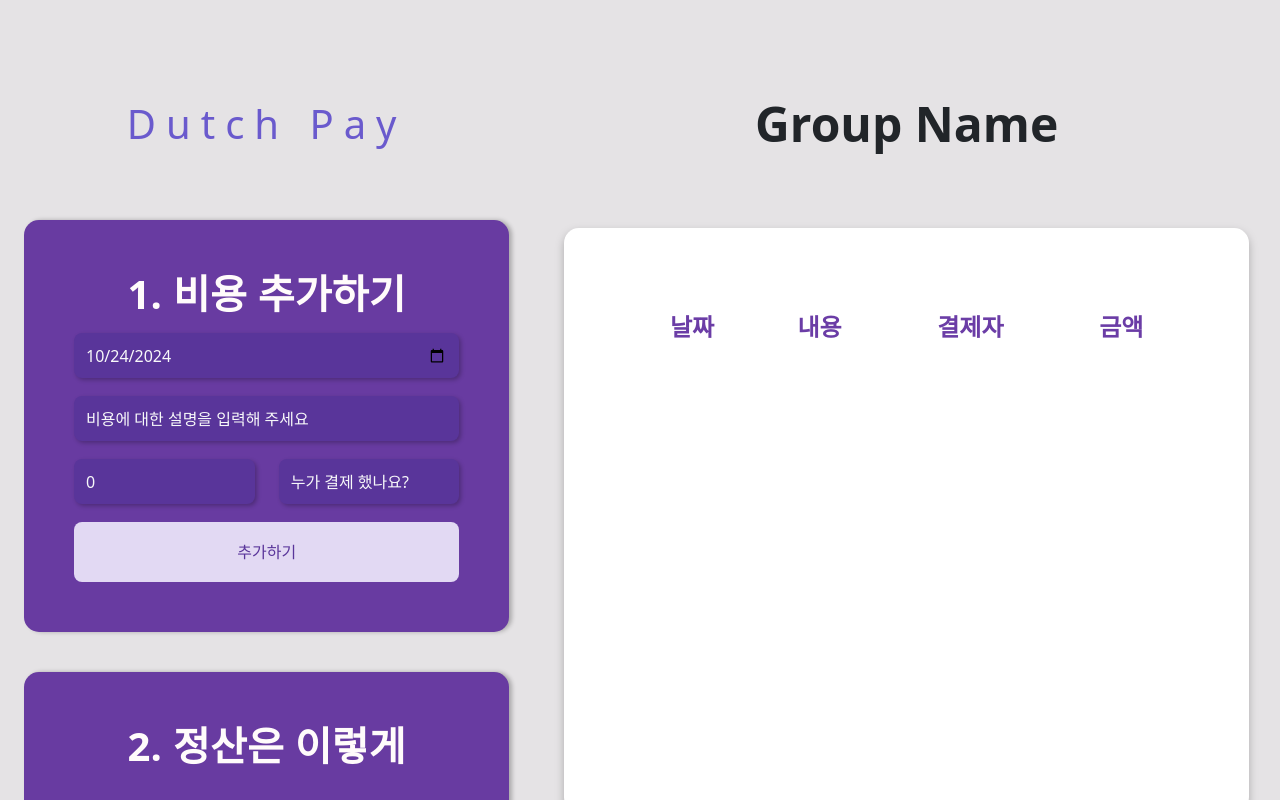
it: 비용 정산 메인 페이지 › 새로운 비용이 입력 › 정산 결과 또한 업데이트가 된다.
Type "2022-10-02" into the date field with placeholder "결제한 날짜를 선택해 주세요" at (267, 356), box left=74, top=333, right=459, bottom=378
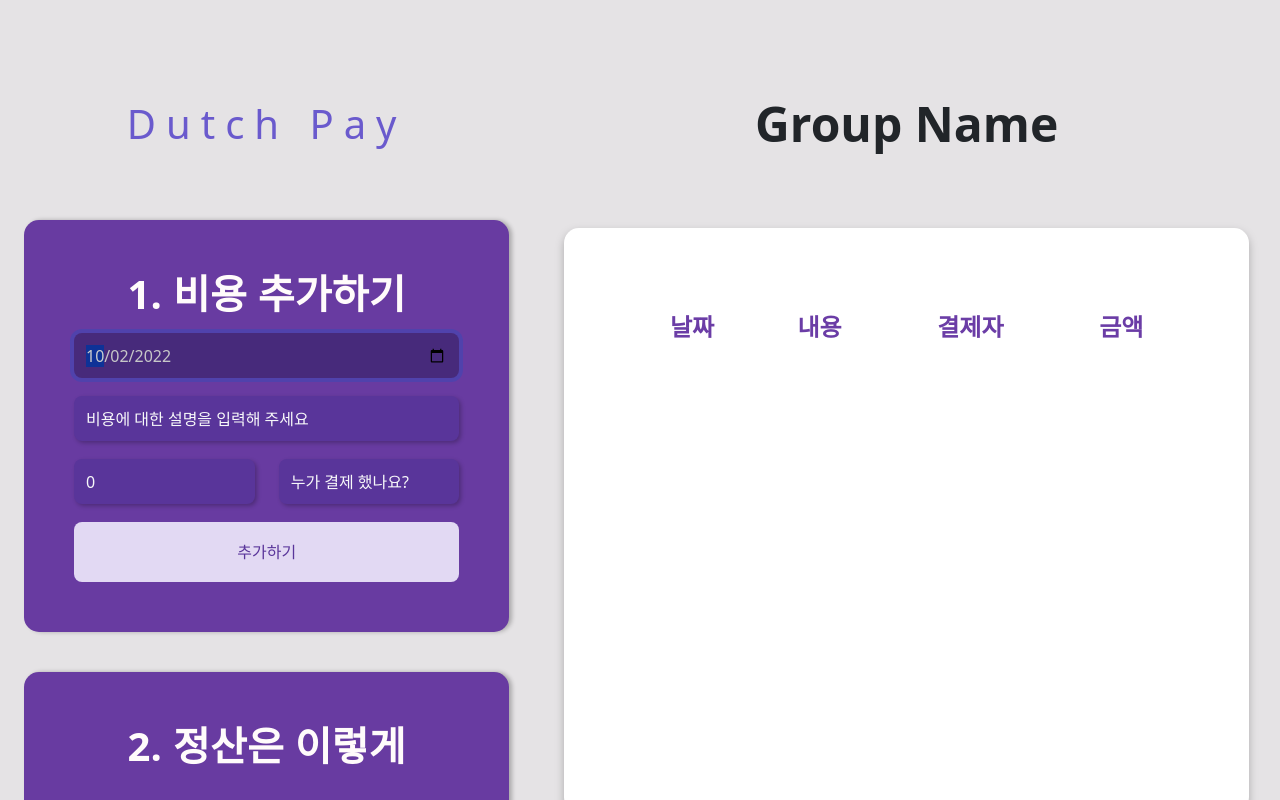
Type "장보기" into the field with placeholder "비용에 대한 설명을 입력해 주세요" at (267, 418), box left=74, top=396, right=459, bottom=441
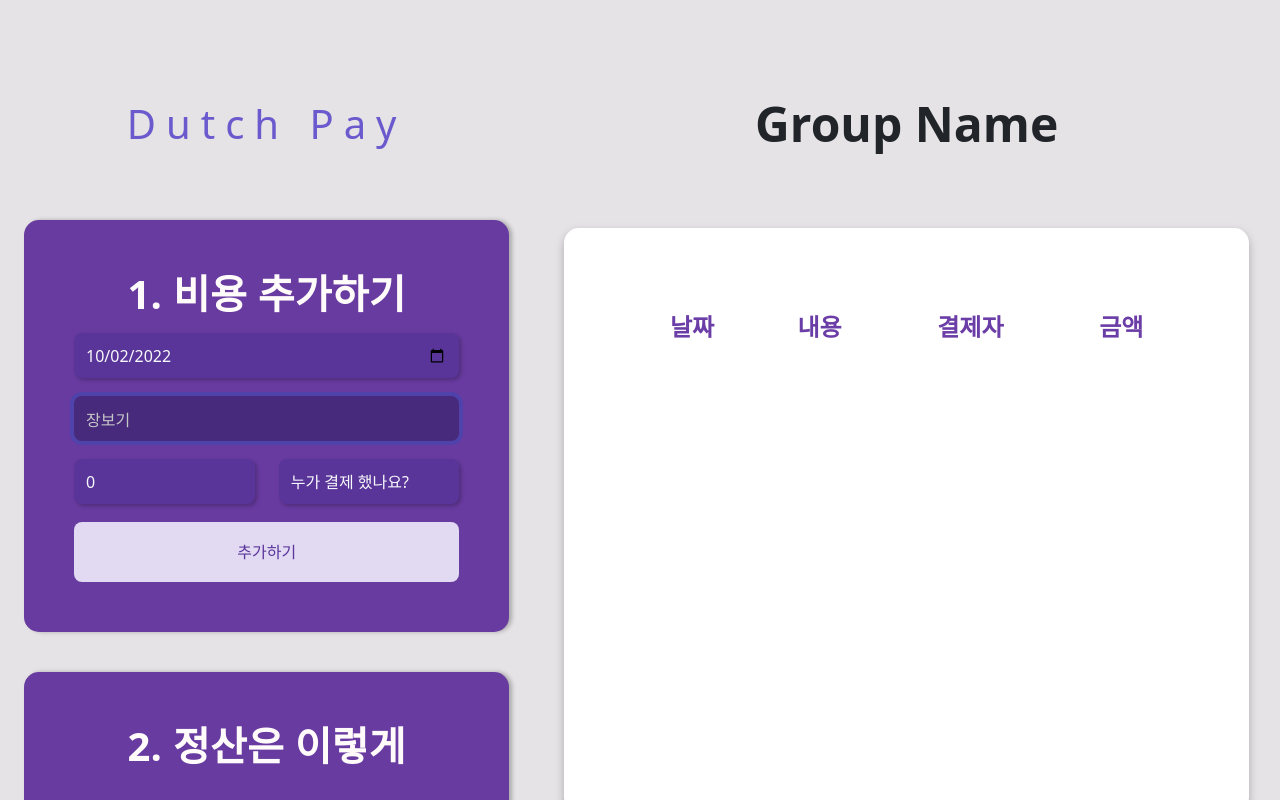
Type "30000" into the number field with placeholder "비용은 얼마였나요?" at (164, 482), box left=74, top=459, right=255, bottom=504
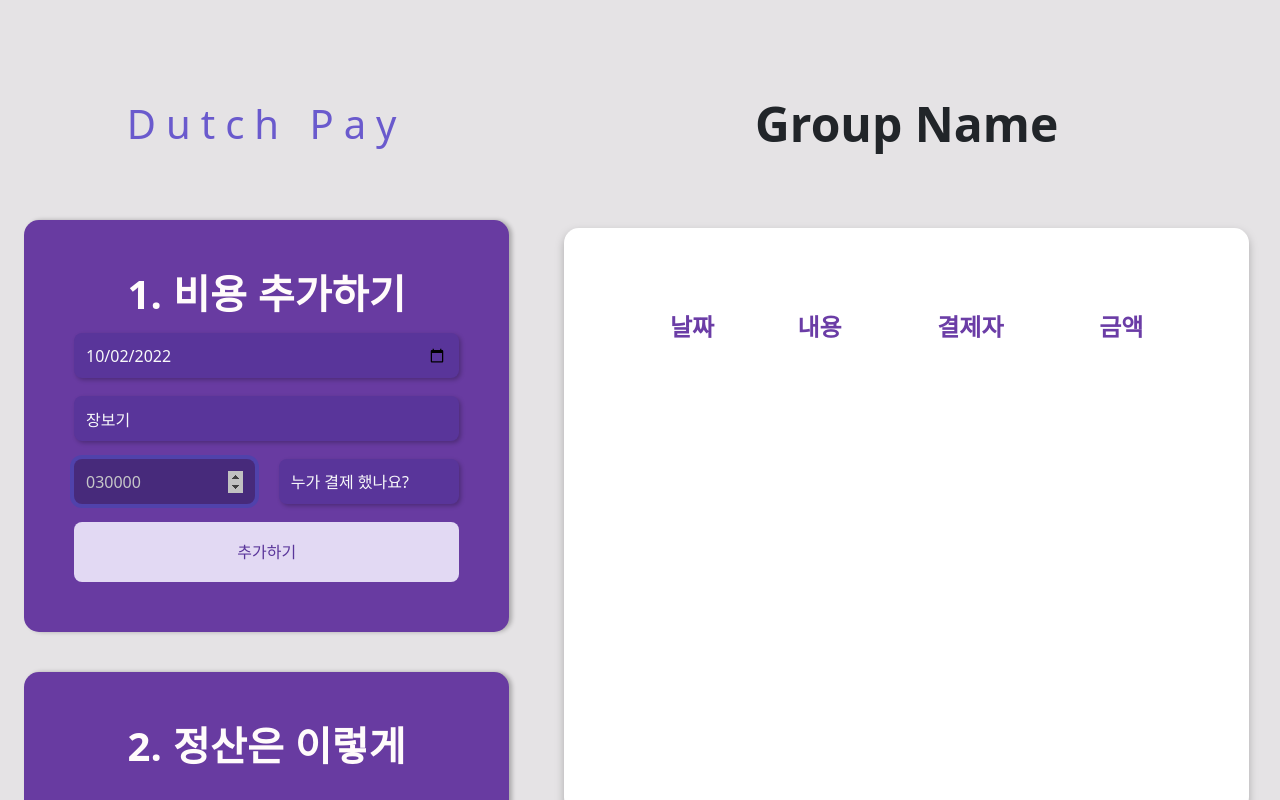
Select "영수" in the dropdown showing "누가 결제" at (369, 482), box left=279, top=459, right=459, bottom=504
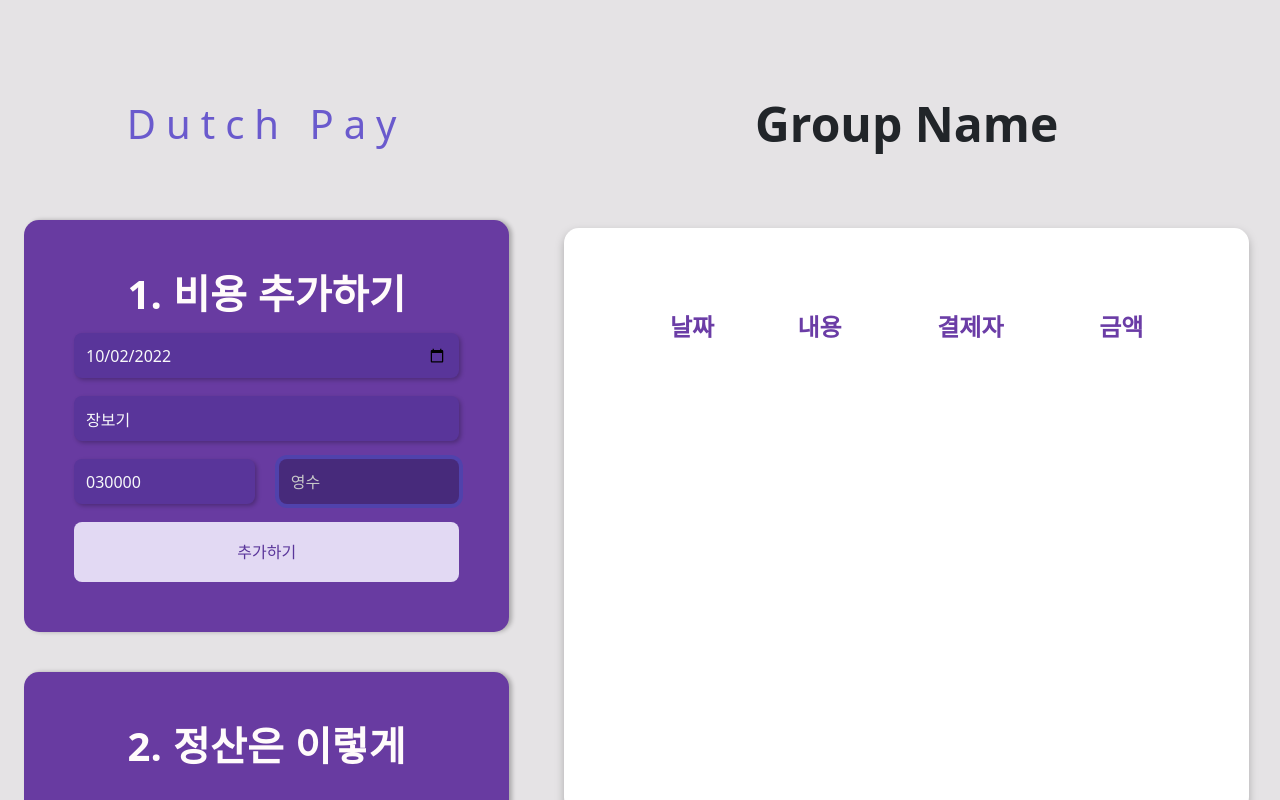
Click the button "추가하기" at (267, 552), box left=74, top=522, right=459, bottom=582
(page scrolled)
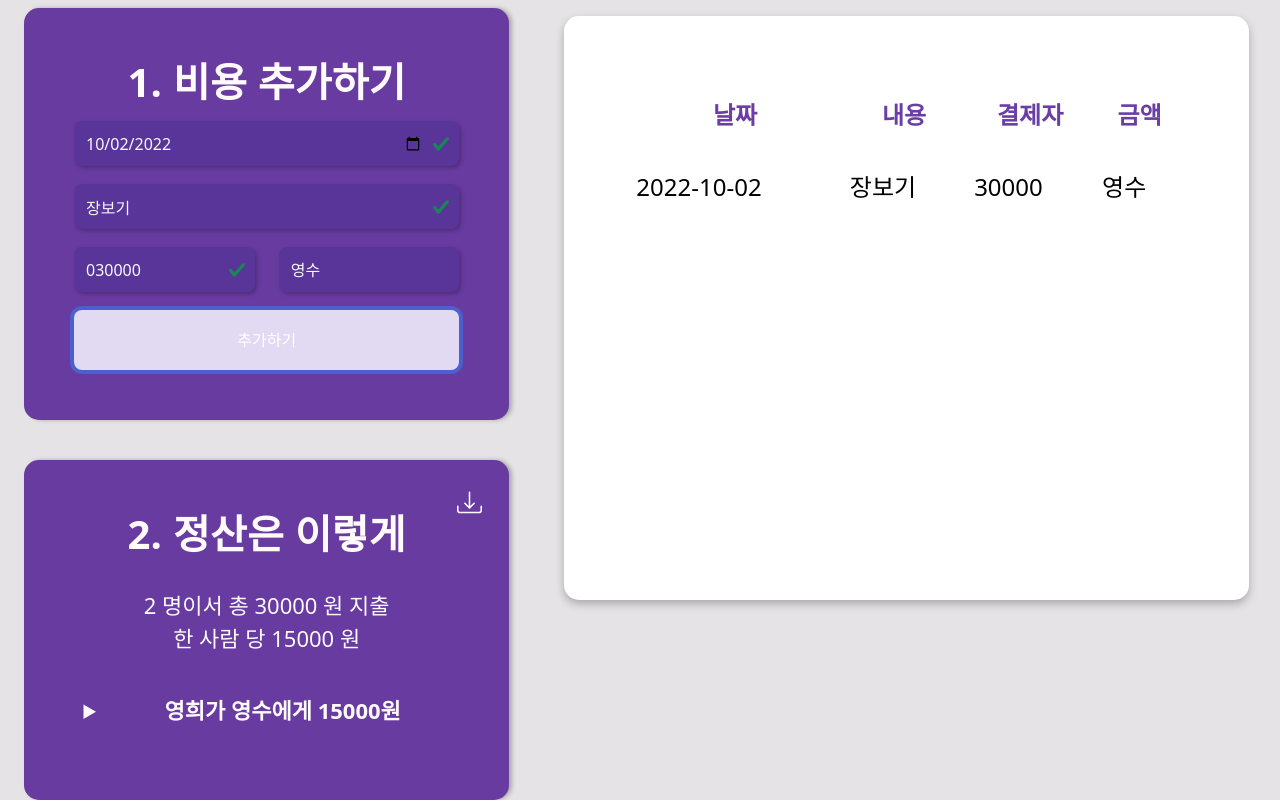
Expected: the text "2 명이서 총 30000 원 지출" is shown, left=144, top=590, right=390, bottom=620
Expected: the text "영희가 영수에게 15000원" is shown, left=164, top=695, right=401, bottom=725
